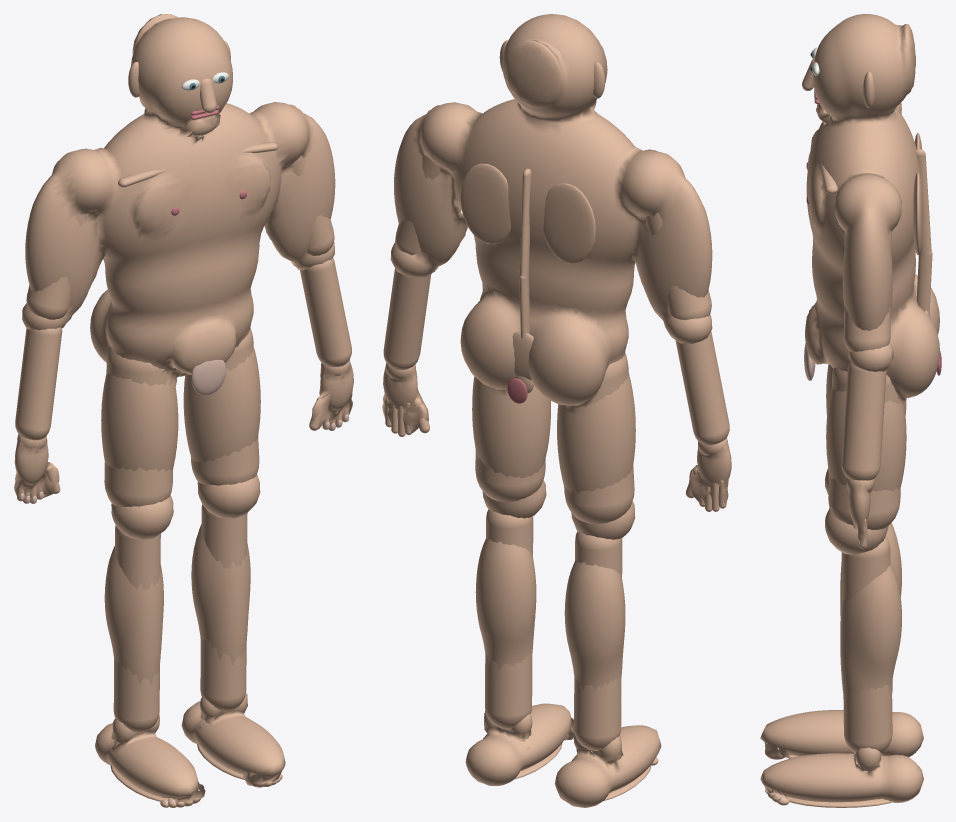
The model's file is body-erwachsener-divers-unbekannt-keine-brueste-v2.glb.
3 views of the same model, side by side, from view 1: azimuth 30°, elevation 25°; view 2: azimuth 150°, elevation 25°; view 3: azimuth 270°, elevation 25° (orthographic). The views are drawn at different scales.
Visible parts, largest first — view 1: zone__visual-surface-body-erwachsener-divers-unbekannt-keine, zone__surface-lower-leg-right, zone__surface-lower-leg-left, zone__surface-forearm-left, zone__surface-thigh-left, zone__surface-forearm-right, zone__surface-thigh-right, zone__surface-upper-arm-left, zone__surface-upper-arm-right, zone__surface-genital-observation-deferred; view 2: zone__visual-surface-body-erwachsener-divers-unbekannt-keine, zone__surface-lower-leg-left, zone__surface-lower-leg-right, zone__surface-forearm-left, zone__surface-forearm-right, zone__surface-scapula-left, zone__surface-scapula-right, zone__surface-thigh-left, zone__surface-thigh-right, zone__surface-upper-arm-left, zone__surface-thoracic-spine, zone__surface-upper-arm-right (+1 smaller); view 3: zone__visual-surface-body-erwachsener-divers-unbekannt-keine, zone__surface-lower-leg-right, zone__surface-forearm-right, zone__surface-thigh-right, zone__surface-upper-arm-right, zone__surface-thoracic-spine, zone__surface-lumbar-spine, zone__surface-scapula-right, zone__surface-sole-right, zone__surface-ear-right.
Part boxes in pixels (<box>): zone__visual-surface-body-erwachsener-divers-unbekannt-keine: <box>14,14,353,802</box>; zone__surface-lower-leg-right: <box>200,504,247,711</box>; zone__surface-lower-leg-left: <box>113,525,160,732</box>; zone__surface-forearm-left: <box>15,327,62,440</box>; zone__surface-thigh-left: <box>104,346,173,506</box>; zone__surface-forearm-right: <box>300,258,351,366</box>; zone__surface-thigh-right: <box>190,328,259,485</box>; zone__surface-upper-arm-left: <box>26,213,88,319</box>; zone__surface-upper-arm-right: <box>291,155,334,255</box>; zone__surface-genital-observation-deferred: <box>191,360,225,395</box>; zone__visual-surface-body-erwachsener-divers-unbekannt-keine: <box>382,14,731,807</box>; zone__surface-lower-leg-left: <box>574,532,622,750</box>; zone__surface-lower-leg-right: <box>485,509,533,729</box>; zone__surface-forearm-left: <box>675,331,729,445</box>; zone__surface-forearm-right: <box>383,268,430,369</box>; zone__surface-scapula-left: <box>543,183,595,263</box>; zone__surface-scapula-right: <box>460,163,510,244</box>; zone__surface-thigh-left: <box>564,353,634,523</box>; zone__surface-thigh-right: <box>475,450,545,501</box>; zone__surface-upper-arm-left: <box>646,212,711,320</box>; zone__surface-thoracic-spine: <box>519,168,531,282</box>; zone__surface-upper-arm-right: <box>395,155,456,255</box>; zone__visual-surface-body-erwachsener-divers-unbekannt-keine: <box>760,14,939,802</box>; zone__surface-lower-leg-right: <box>841,536,892,753</box>; zone__surface-forearm-right: <box>841,360,886,480</box>; zone__surface-thigh-right: <box>828,367,900,529</box>; zone__surface-upper-arm-right: <box>844,230,891,351</box>; zone__surface-thoracic-spine: <box>915,149,931,259</box>; zone__surface-lumbar-spine: <box>916,251,932,313</box>; zone__surface-scapula-right: <box>913,172,923,255</box>; zone__surface-sole-right: <box>786,796,892,807</box>; zone__surface-ear-right: <box>863,71,875,108</box>.
Size of the model in its own units: 0.8172 by 1.72 by 0.3729.
